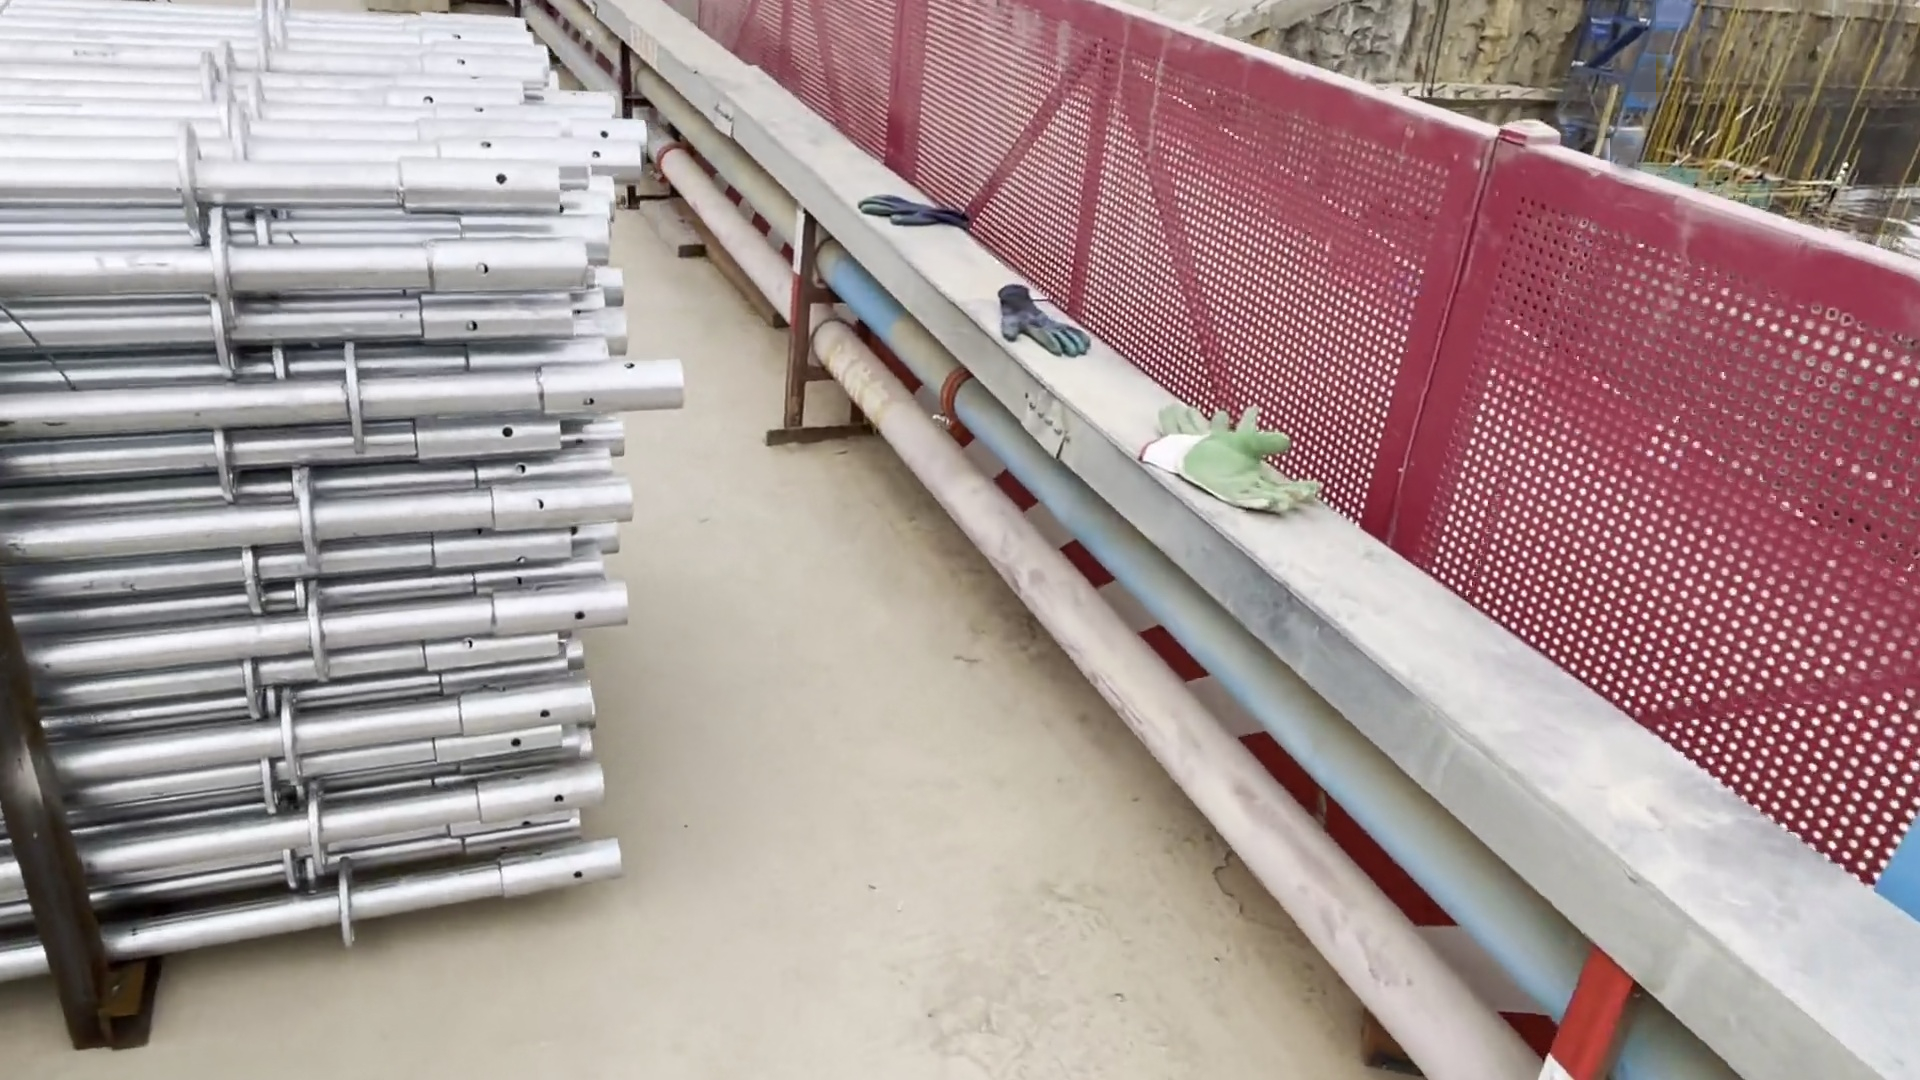fence: (1371, 120, 1920, 885), (907, 1, 1375, 550), (724, 1, 907, 164)
scaffold: (1, 1, 704, 1011)
